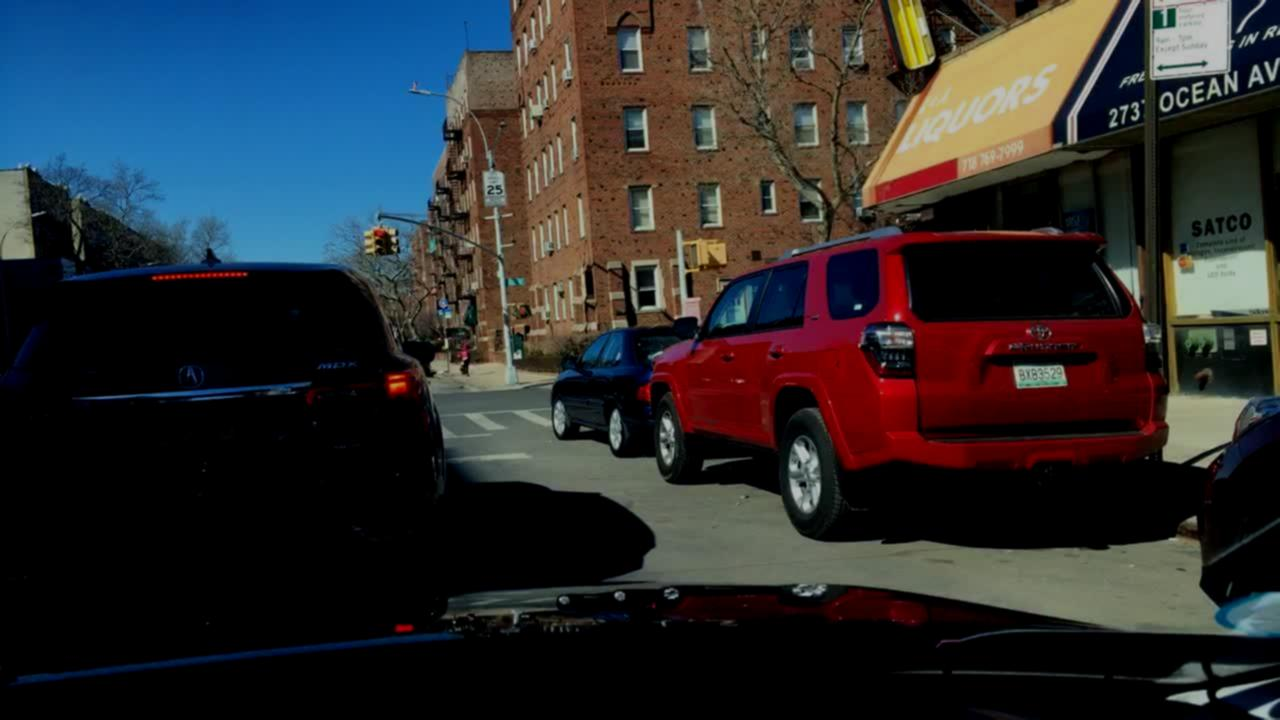Toyota: (1024, 320, 1056, 344)
acura: (169, 359, 212, 397)
